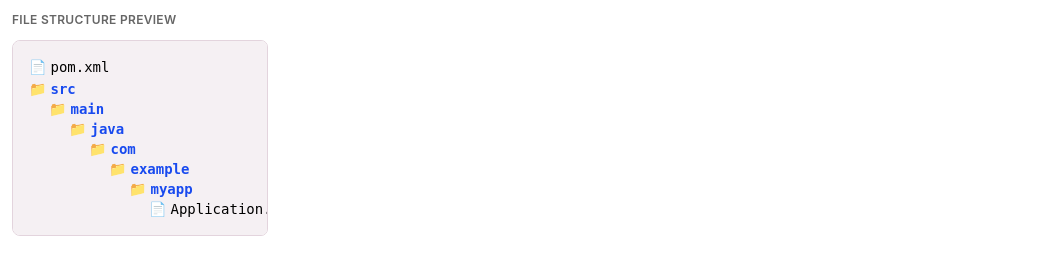
Test case: FileTreePreview › shows content pane after clicking a file node
The width and height of the screenshot is (1048, 253).
// click pom.xml span
Click the element showing "📄 pom.xml": coordinates (69, 67) [29,59,110,75]
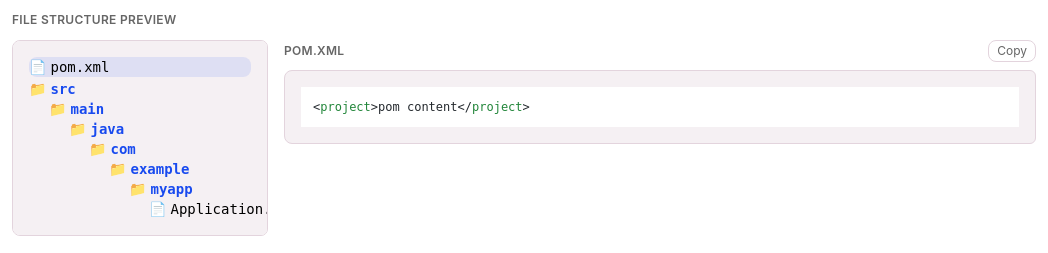
Result: the element showing "pom.xml Copy <project>pom content</project>" is shown at [284,40,1036,144]
